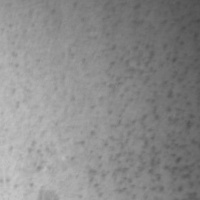pitted_surface: (87, 0, 199, 199), (7, 14, 107, 199), (24, 146, 126, 199)
